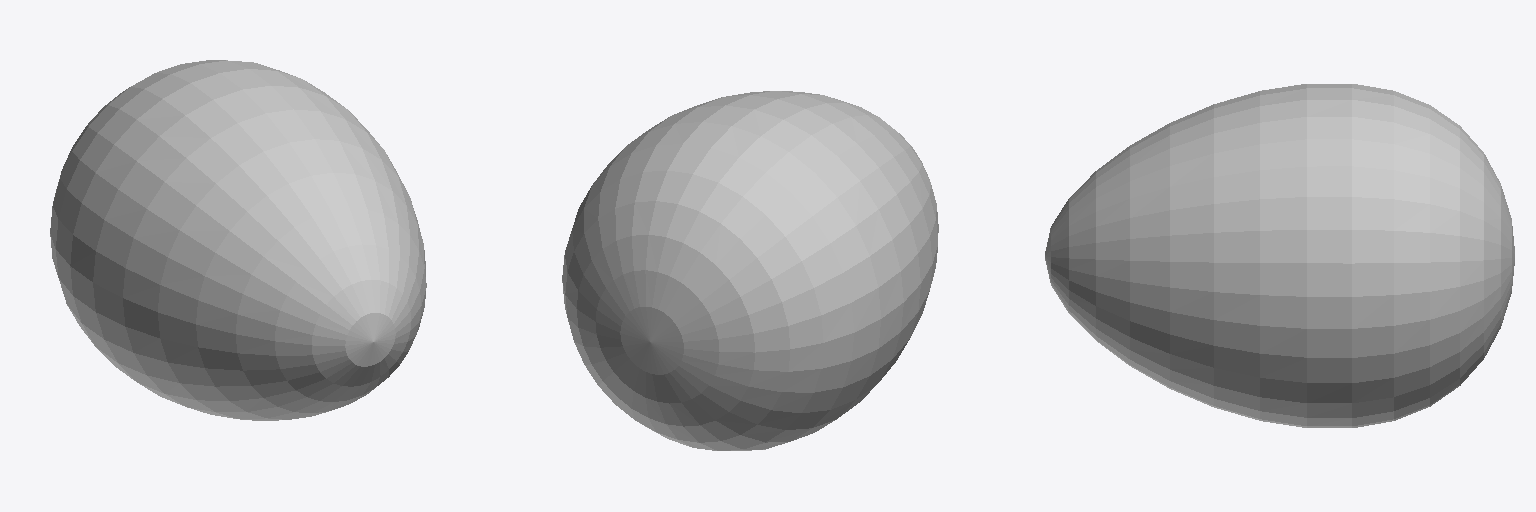
3 renders of one model, left to right at view 1: azimuth 30°, elevation 25°; view 2: azimuth 150°, elevation 25°; view 3: azimuth 270°, elevation 25°, orthographic.
Visible parts, largest first — view 1: Ei; view 2: Ei; view 3: Ei.
Boxes of the visible parts, box(x1,y1,x2,y2) form: Ei: box(50, 60, 426, 420); Ei: box(562, 91, 938, 450); Ei: box(1045, 84, 1514, 427).
Bounding box in the file's own units: 0.0018 × 0.0018 × 0.0025.